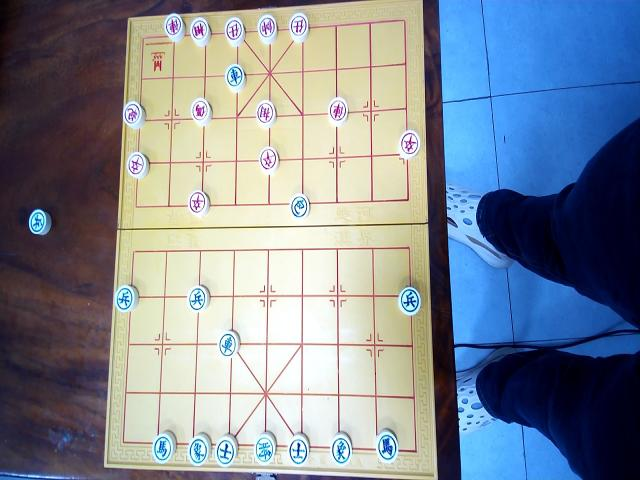piece: (375, 429, 399, 464), (187, 432, 211, 466), (152, 431, 176, 464), (330, 431, 352, 466), (216, 434, 238, 468), (254, 432, 276, 466), (288, 433, 310, 467), (397, 285, 421, 316), (256, 13, 278, 45), (288, 11, 310, 43), (114, 284, 138, 313), (163, 13, 186, 43), (123, 100, 145, 130), (398, 129, 420, 159), (224, 16, 245, 47), (190, 97, 212, 126), (126, 151, 148, 179), (190, 16, 210, 46), (28, 208, 50, 235), (187, 285, 209, 312), (258, 146, 278, 175), (328, 97, 348, 126), (256, 99, 276, 128), (188, 189, 208, 218), (225, 63, 245, 92), (219, 330, 239, 358), (290, 193, 310, 220)
